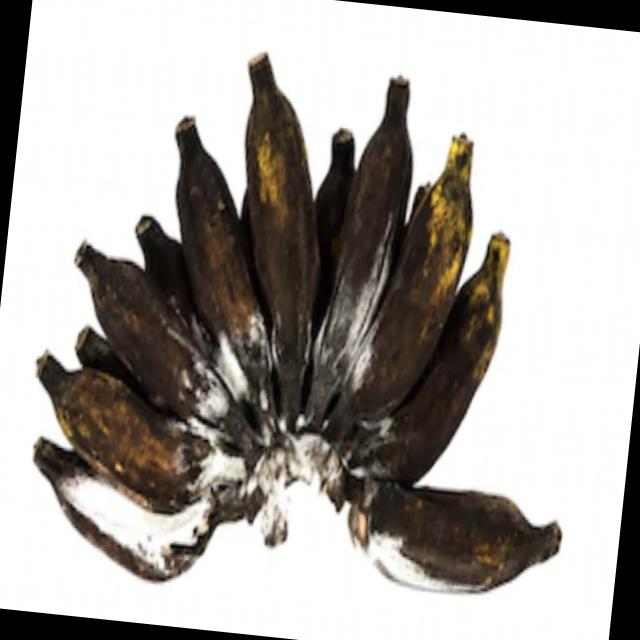rotten-banana: (365, 130, 480, 414), (318, 94, 432, 377), (232, 63, 346, 341), (365, 476, 555, 620), (68, 235, 207, 402), (173, 113, 270, 349), (24, 365, 184, 507), (404, 270, 518, 466)
